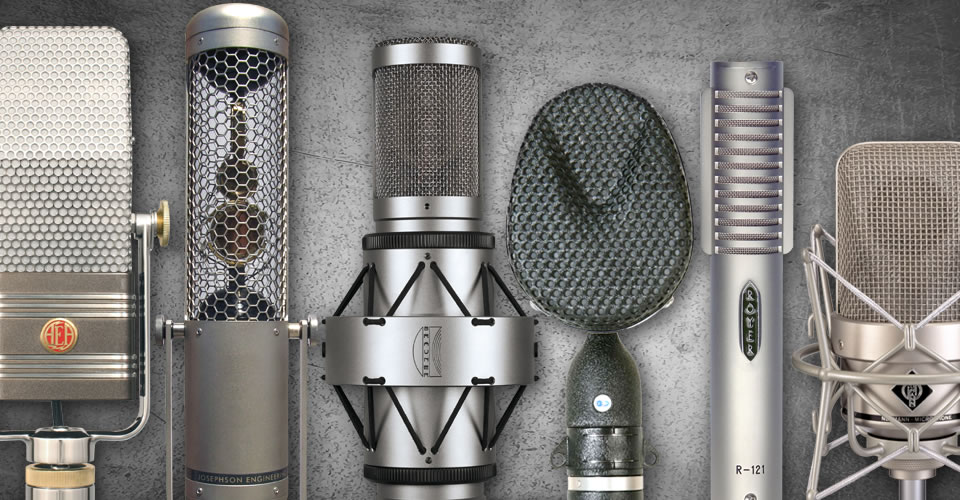microphone: (306, 35, 546, 500), (1, 19, 176, 500), (154, 2, 323, 500), (503, 80, 699, 500), (796, 134, 960, 500), (691, 54, 803, 500)
